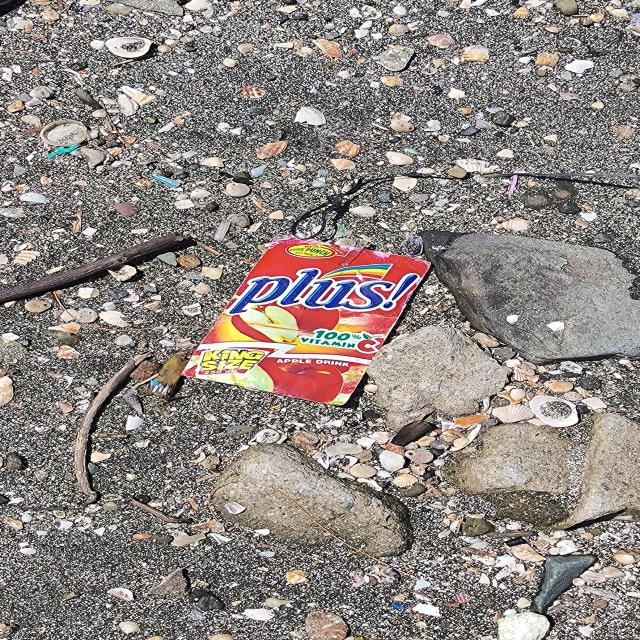plastic_waste: (180, 238, 432, 406)
